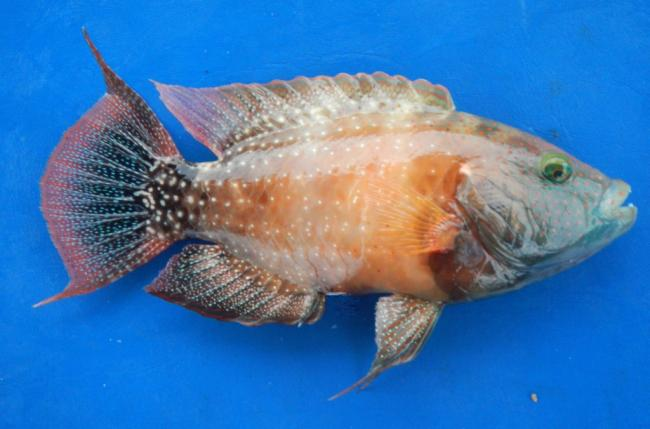fish: (32, 25, 641, 400)
